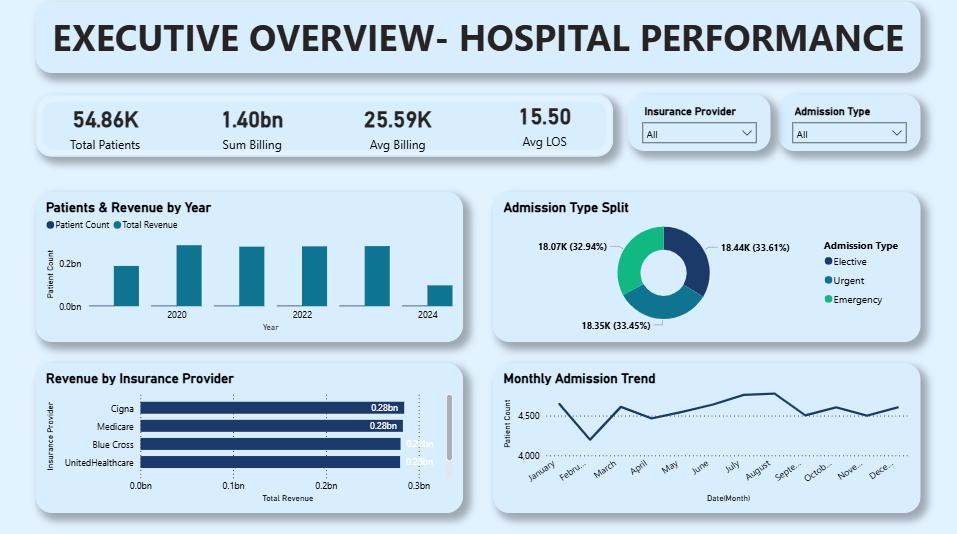

The page's visual inventory and layout, read from the dashboard file:
{"tool":"powerbi","page":{"name":"Page 1","canvas":[1280,720],"ordinal":0},"visuals":[{"type":"shape","box":[50,130,770,82.5],"z":0},{"type":"clusteredColumnChart","title":"Patients & Revenue by Year","fields":{"Category":["healthcare_final_clean.admission_date.Variation.Date Hierarchy.Year"],"Y":["healthcare_final_clean.Total Patients","healthcare_final_clean.Total Revenue"]},"box":[50,260,570,200],"z":1000},{"type":"donutChart","title":"Admission Type Split","fields":{"Category":["healthcare_final_clean.admission_type"],"Y":["healthcare_final_clean.Total Patients"]},"box":[660,260,570,200],"z":2000},{"type":"barChart","title":"Revenue by Insurance Provider","fields":{"Category":["healthcare_final_clean.insurance_provider"],"Y":["healthcare_final_clean.Total Revenue"]},"box":[50,487.5,570,200],"z":3000},{"type":"lineChart","title":" Monthly Admission Trend","fields":{"Y":["healthcare_final_clean.Total Patients"],"Category":["healthcare_final_clean.admission_date.Variation.Date Hierarchy.Month"]},"box":[660,487.5,570,200],"z":4000},{"type":"textbox","box":[50,5,1180,95],"z":5000},{"type":"slicer","fields":{"Values":["healthcare_final_clean.admission_type"]},"box":[1040,130,190,75],"z":6000},{"type":"slicer","fields":{"Values":["healthcare_final_clean.insurance_provider"]},"box":[840,130,190,75],"z":7000},{"type":"card","fields":{"Values":["healthcare_final_clean.Total Patients"]},"box":[50,130,185,82.5],"z":8000},{"type":"card","fields":{"Values":["healthcare_final_clean.Avg LOS"]},"box":[635,125,185,82.5],"z":9000},{"type":"card","fields":{"Values":["healthcare_final_clean.Avg Billing"]},"box":[440,130,185,82.5],"z":10000},{"type":"card","fields":{"Values":["healthcare_final_clean.Sum Billing"]},"box":[245,130,185,82.5],"z":11000}]}

Visuals, with their boxes in screenshot pixels (x1, y1, x2, y2), scaled from the page's 1280x720 canvas onto the 957x534 screenshot:
shape: (37,96,613,158)
"Patients & Revenue by Year" clusteredColumnChart: (37,193,464,341)
"Admission Type Split" donutChart: (493,193,920,341)
"Revenue by Insurance Provider" barChart: (37,362,464,510)
" Monthly Admission Trend" lineChart: (493,362,920,510)
textbox: (37,4,920,74)
slicer - healthcare_final_clean.admission_type: (778,96,920,152)
slicer - healthcare_final_clean.insurance_provider: (628,96,770,152)
card - healthcare_final_clean.Total Patients: (37,96,176,158)
card - healthcare_final_clean.Avg LOS: (475,93,613,154)
card - healthcare_final_clean.Avg Billing: (329,96,467,158)
card - healthcare_final_clean.Sum Billing: (183,96,321,158)
